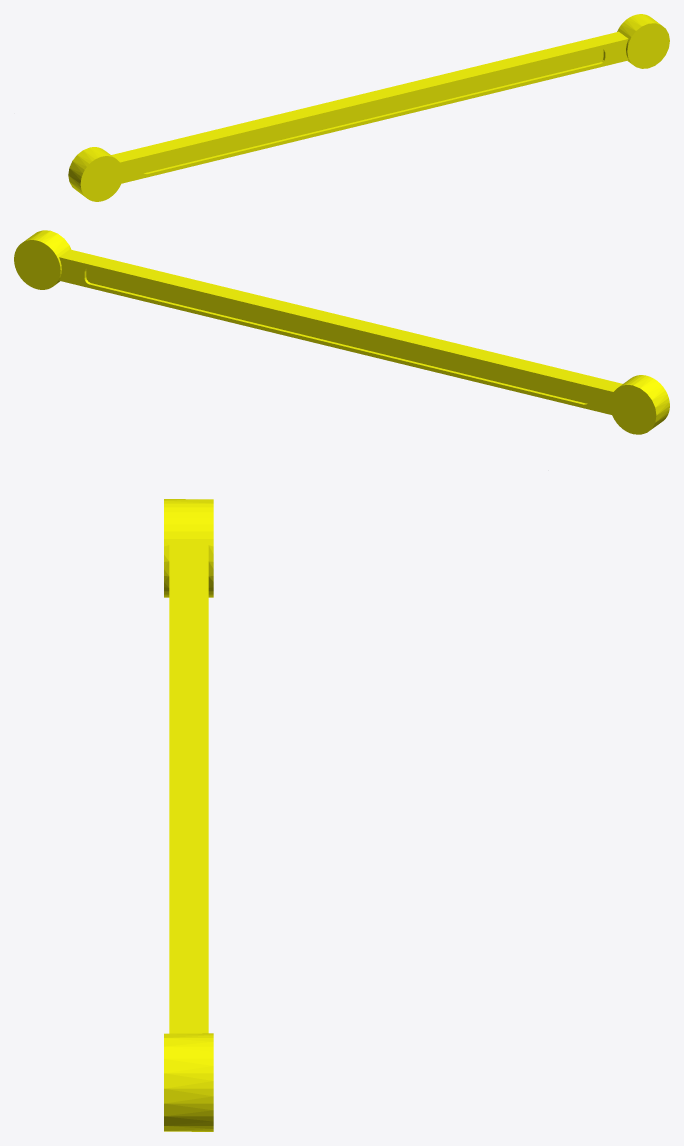
3 views of the same model, one above another, from view 1: azimuth 30°, elevation 25°; view 2: azimuth 150°, elevation 25°; view 3: azimuth 270°, elevation 25° (orthographic). The views are drawn at different scales.
Visible parts, largest first — view 1: node; view 2: node; view 3: node.
Boxes of the visible parts, x1=… form: node: x1=68, y1=14, x2=669, y2=201; node: x1=14, y1=230, x2=669, y2=434; node: x1=164, y1=499, x2=213, y2=1131.
Bounding box in the file's own units: 1315 × 96.31 × 344.
